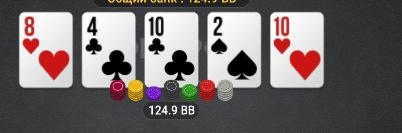10c: (146, 13, 197, 86)
10h: (273, 14, 323, 86)
2s: (209, 14, 262, 87)
4c: (84, 14, 135, 86)
8h: (21, 14, 72, 87)
